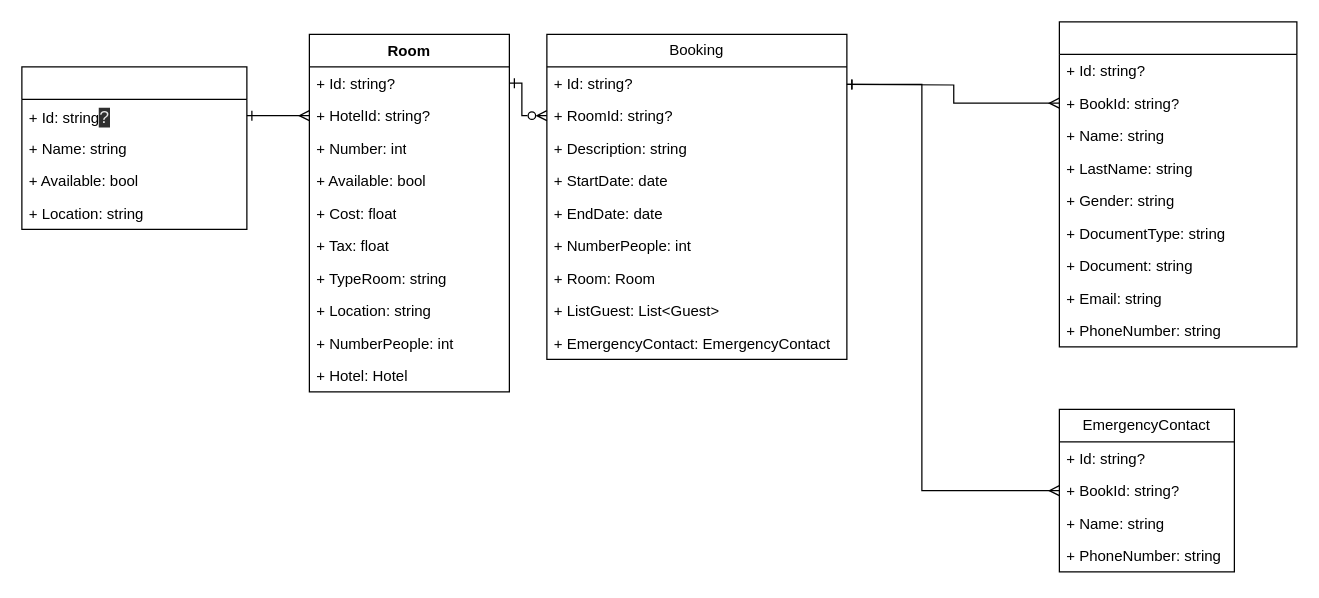
The diagram is 1319 pixels wide and 598 high, and some of its shapes have lost their labels. Each missing label, with the box of its shape:
Guest: (1058, 21, 1297, 347)
Hotel: (21, 66, 247, 229)
